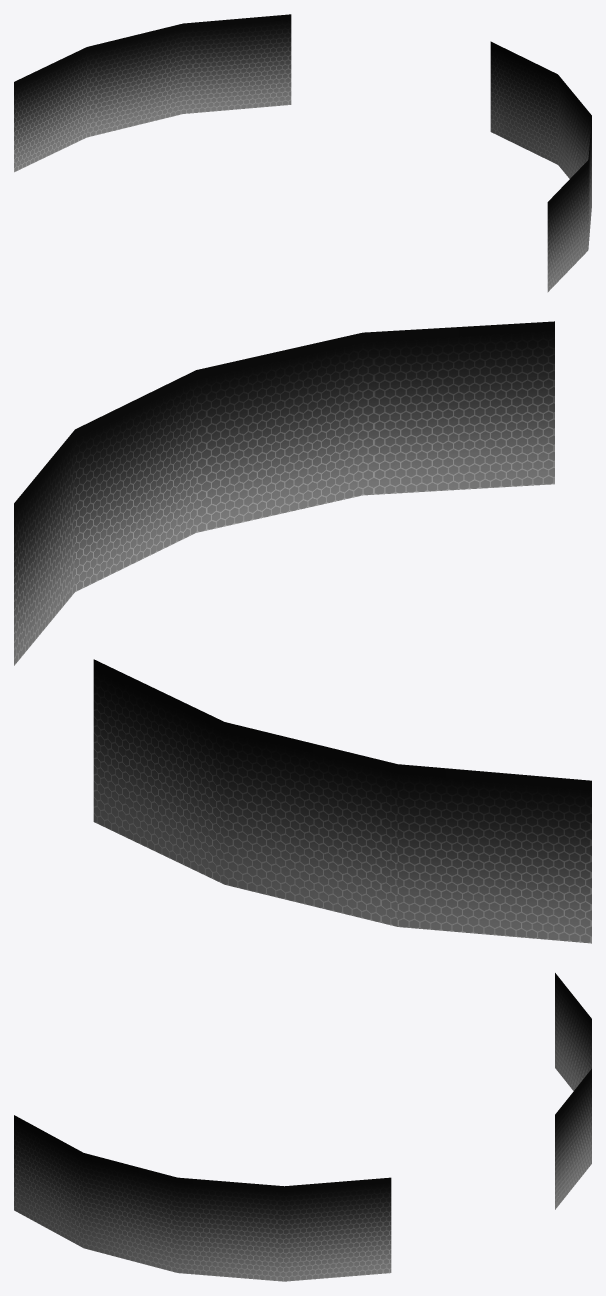
File: Demo_fog.FBX
The picture shows the model from 3 angles, top to bottom: view 1: azimuth 30°, elevation 25°; view 2: azimuth 150°, elevation 25°; view 3: azimuth 270°, elevation 25°; orthographic projection. The views are drawn at different scales.
Parts seen in each view (by area): view 1: Demo_fog; view 2: Demo_fog; view 3: Demo_fog.
Part boxes in pixels (x1,y1,x2,y2): Demo_fog: [14, 14, 591, 292]; Demo_fog: [14, 321, 591, 943]; Demo_fog: [14, 973, 591, 1281].
Size of the model in its own units: 231 by 48.06 by 264.
